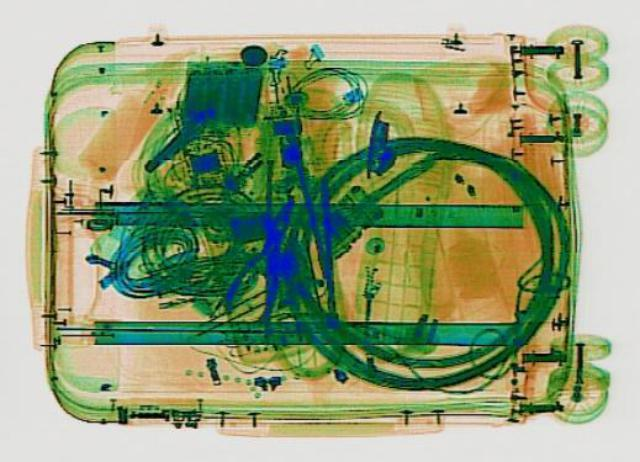Pliers: (213, 193, 314, 323)
